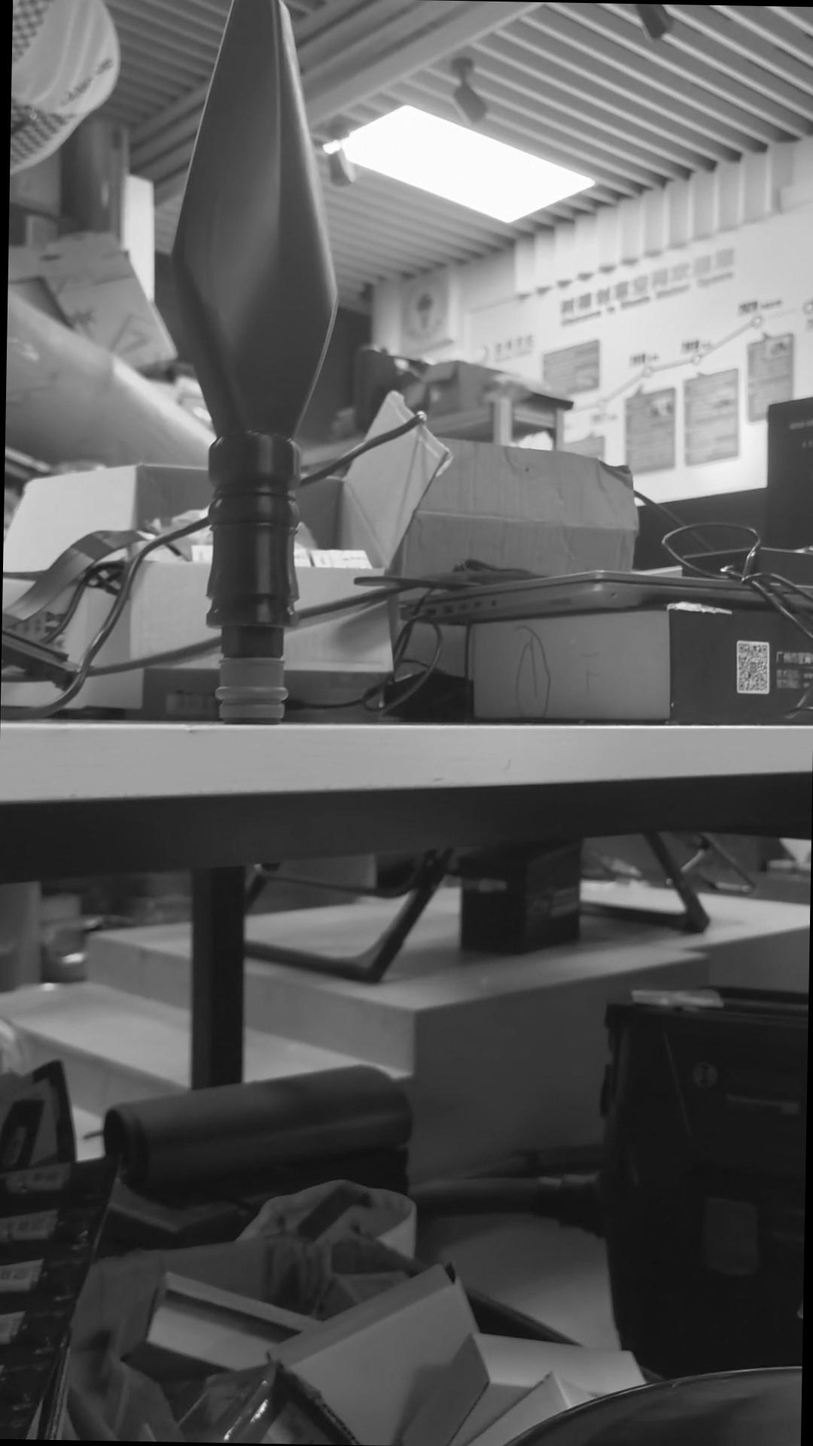base: (206, 645, 295, 731)
